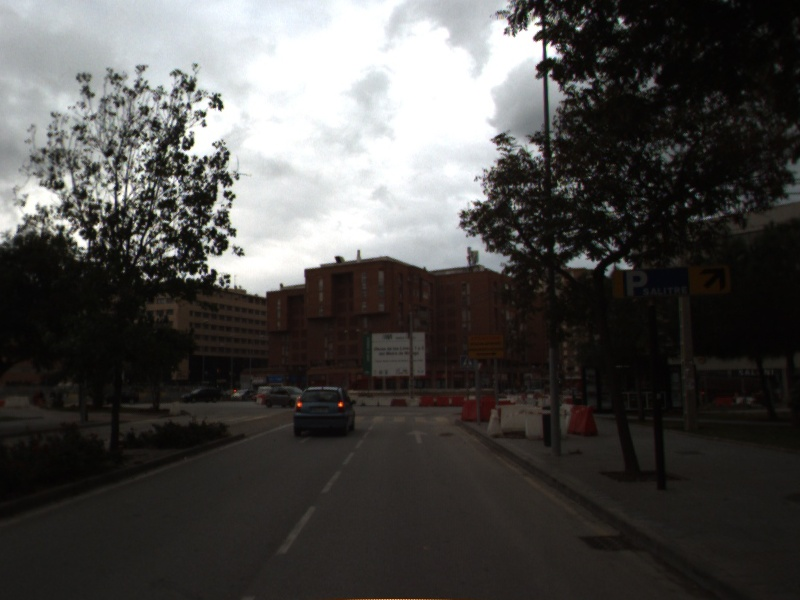STRAIGHT: (404, 428, 432, 446)
